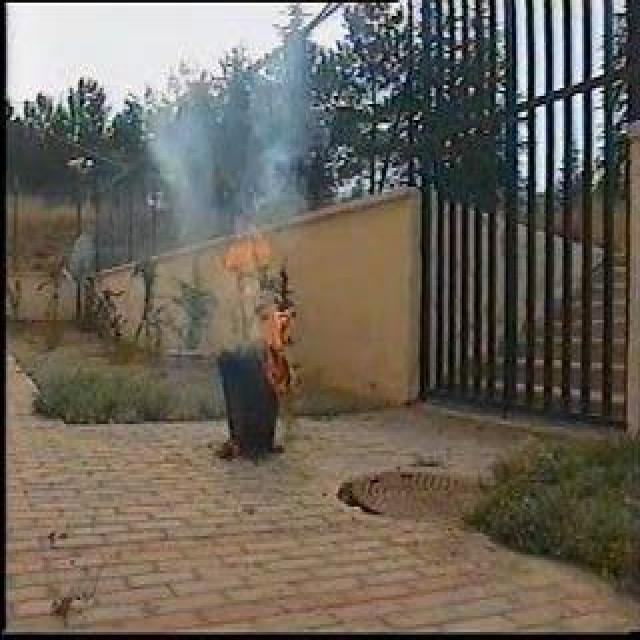fire: (263, 313, 290, 384)
smoke: (156, 55, 314, 220)
